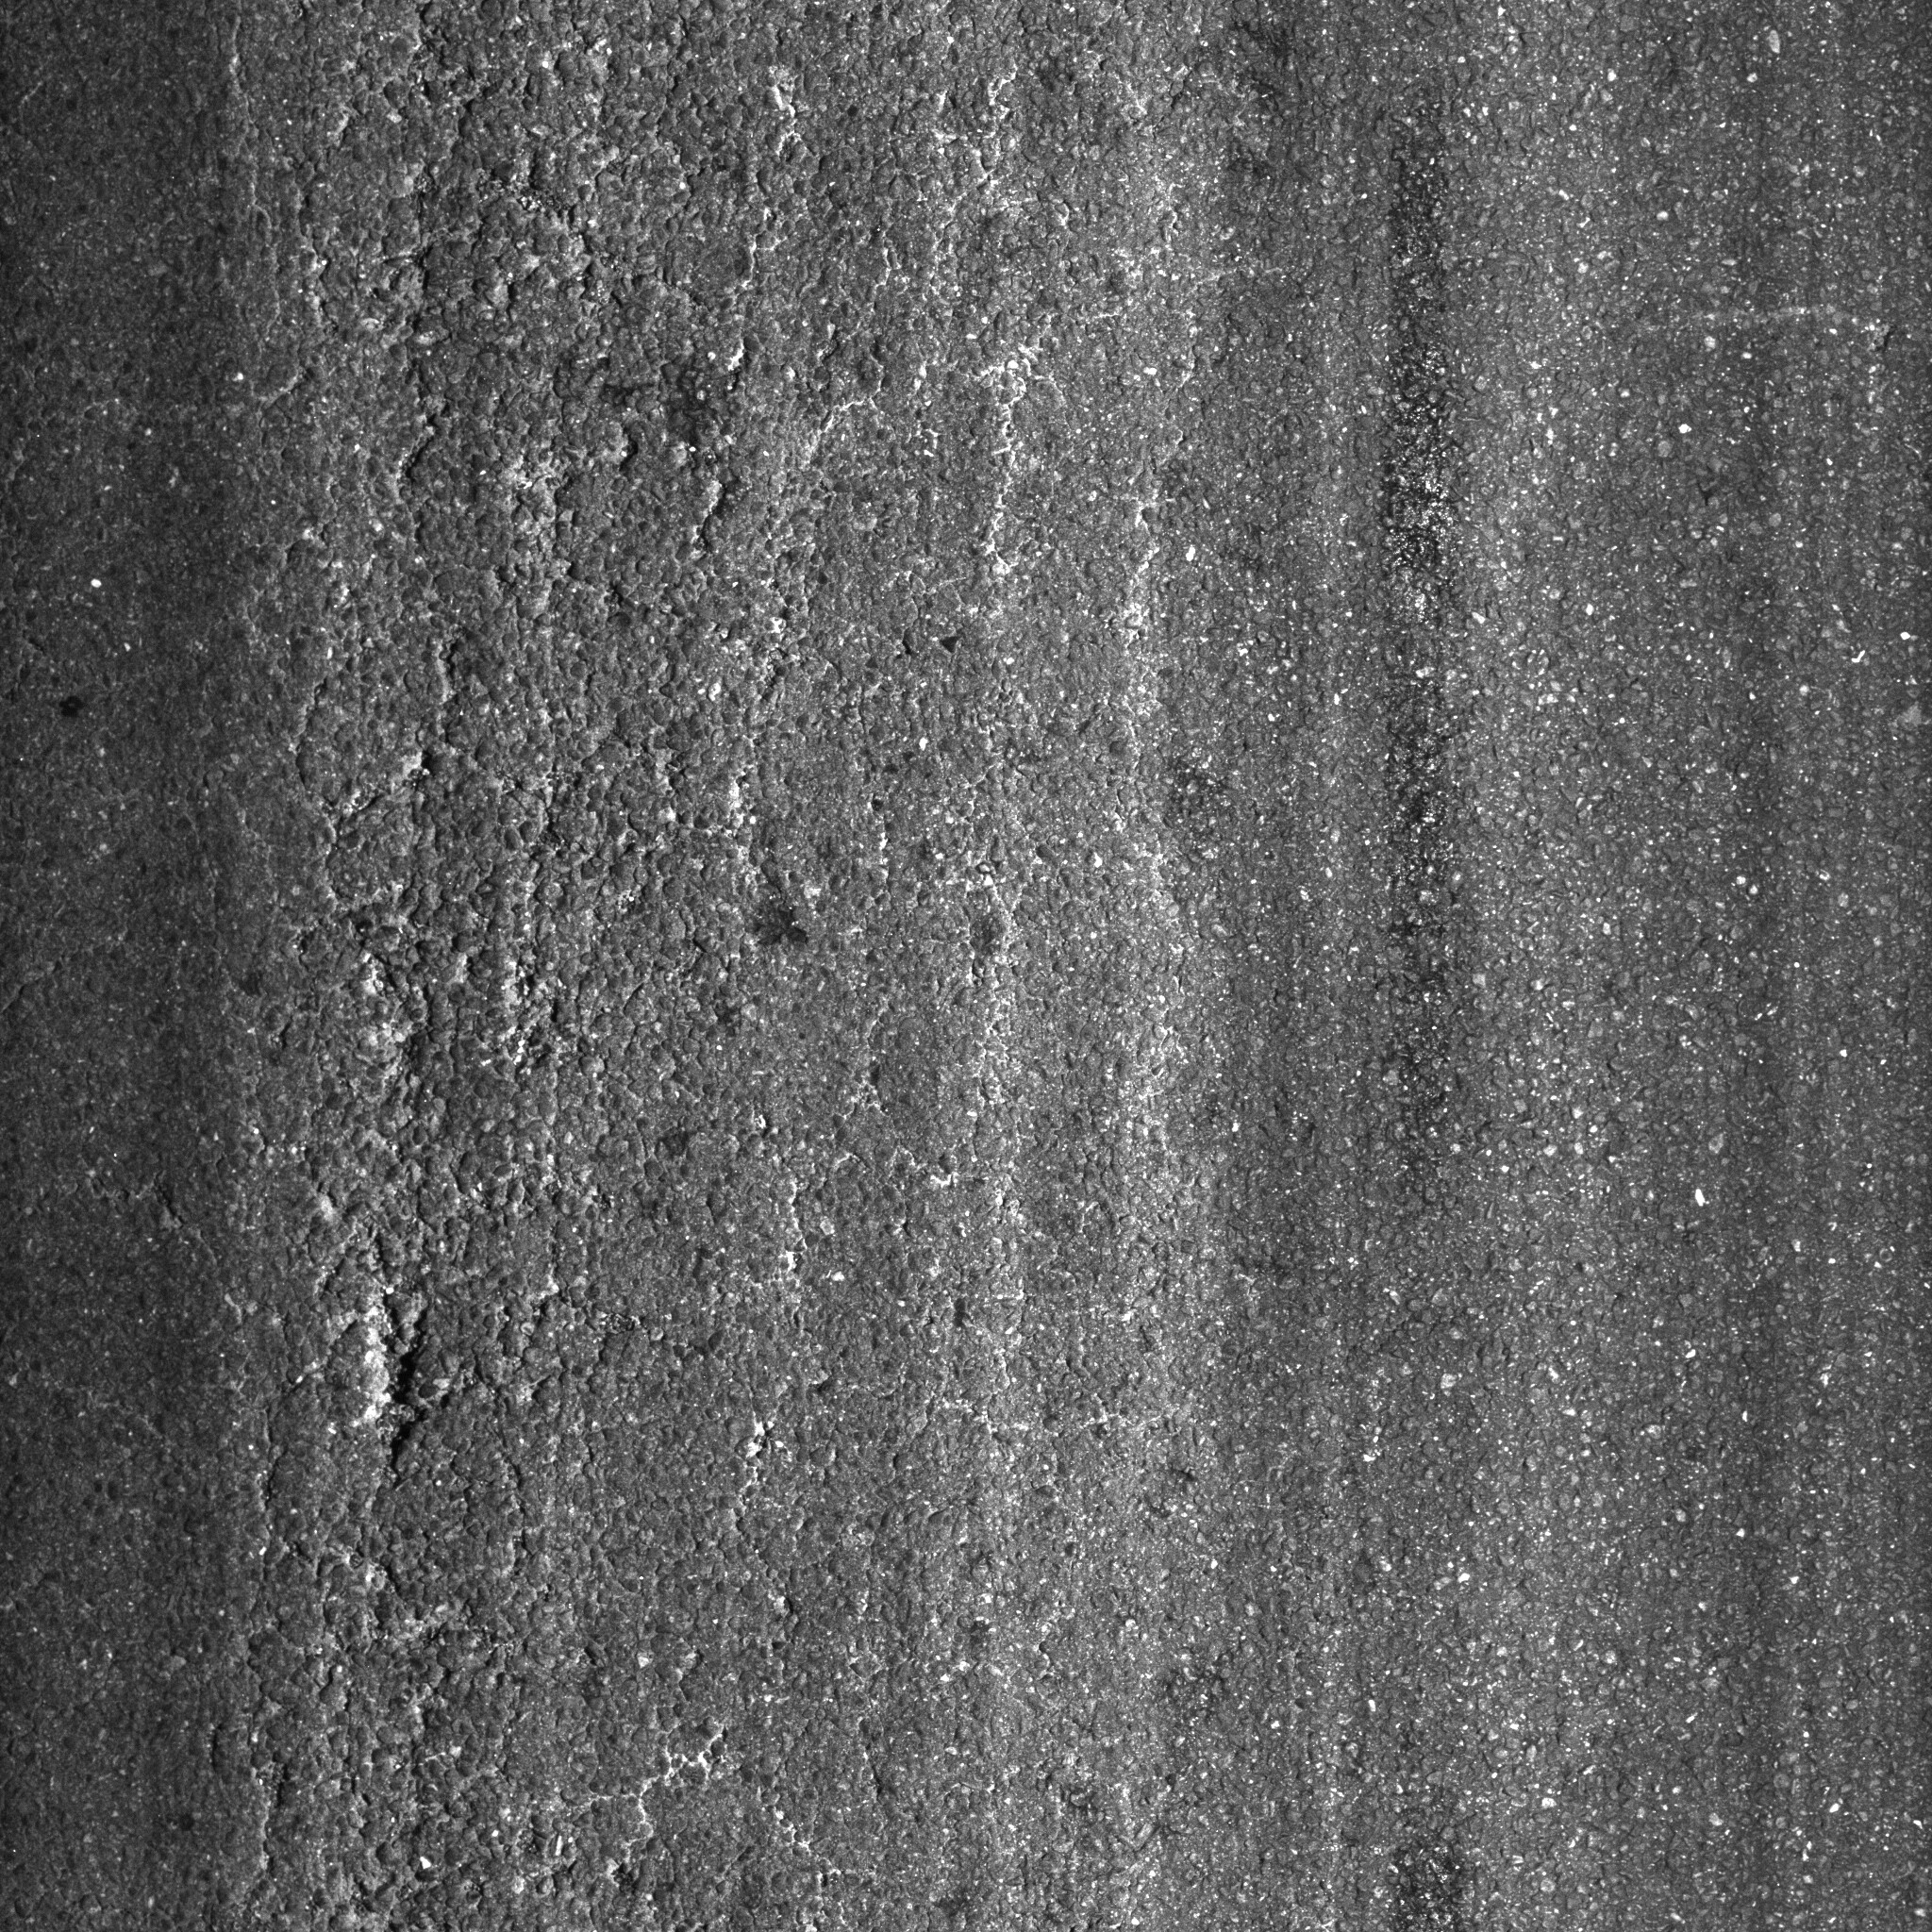alligator: (74, 9, 1410, 1932)
